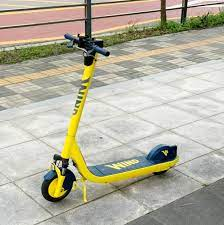guide_blocks: (174, 33, 222, 49), (120, 47, 166, 61), (6, 70, 58, 79)
kick_board: (41, 34, 179, 201)
kick_handler: (65, 34, 109, 60)
kick_neck: (61, 66, 92, 151)
kick_wheel: (41, 168, 75, 201), (147, 144, 178, 175)
